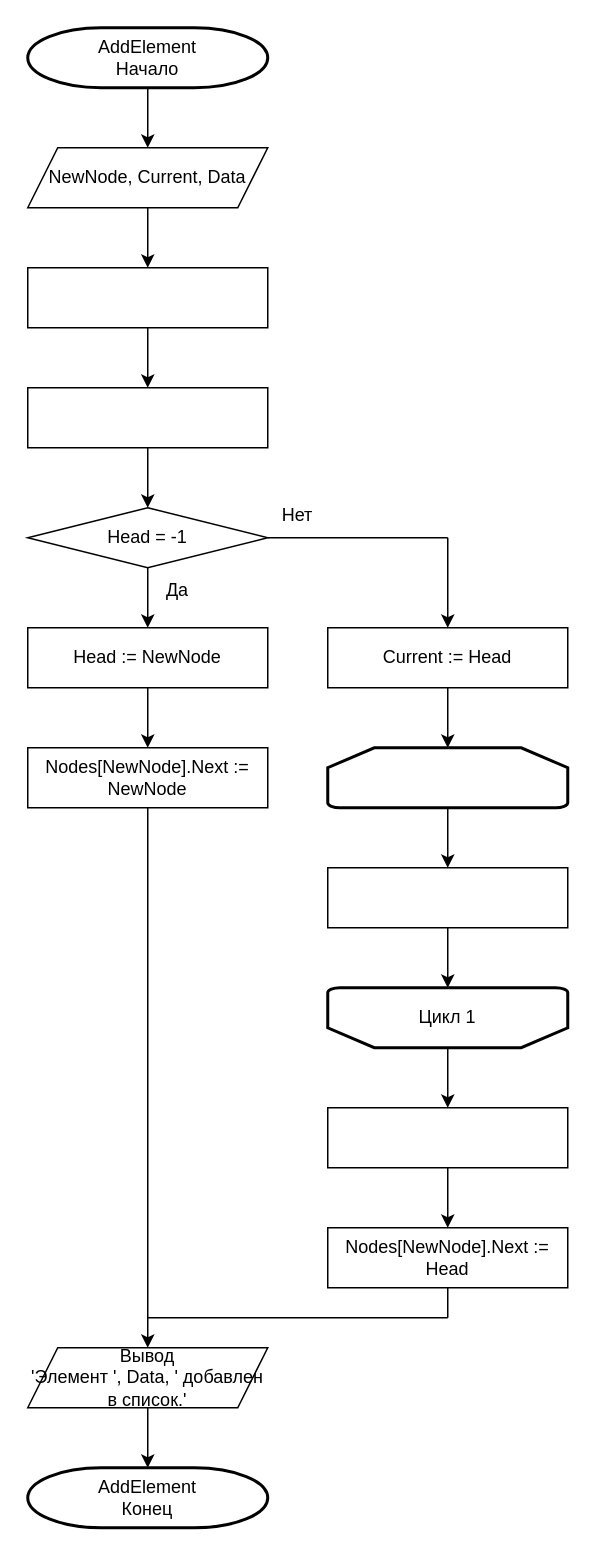
Image size: 594x1554. Some labels were removed from this diagram. The centre of each missing label's shape, as x and y in pixels:
Current := Nodes[Current].Next: point 447,897
NewNode := AllocateNode: point 147,297
Nodes[Current].Next := NewNode: point 447,1137
Nodes[NewNode].Data := Data: point 147,417
Цикл 1 Nodes[Current].Next <> Head: point 447,777
